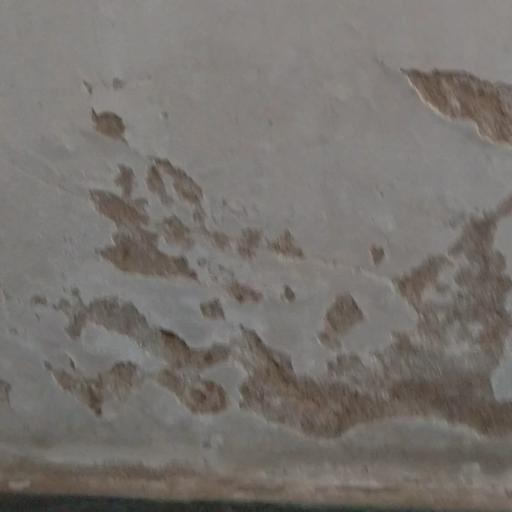peeling: (47, 59, 512, 462)
